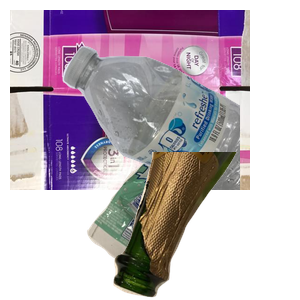cardboard: (10, 10, 250, 190)
glass: (111, 152, 300, 300)
plastic: (60, 44, 300, 224)
trash: (84, 133, 292, 300)
